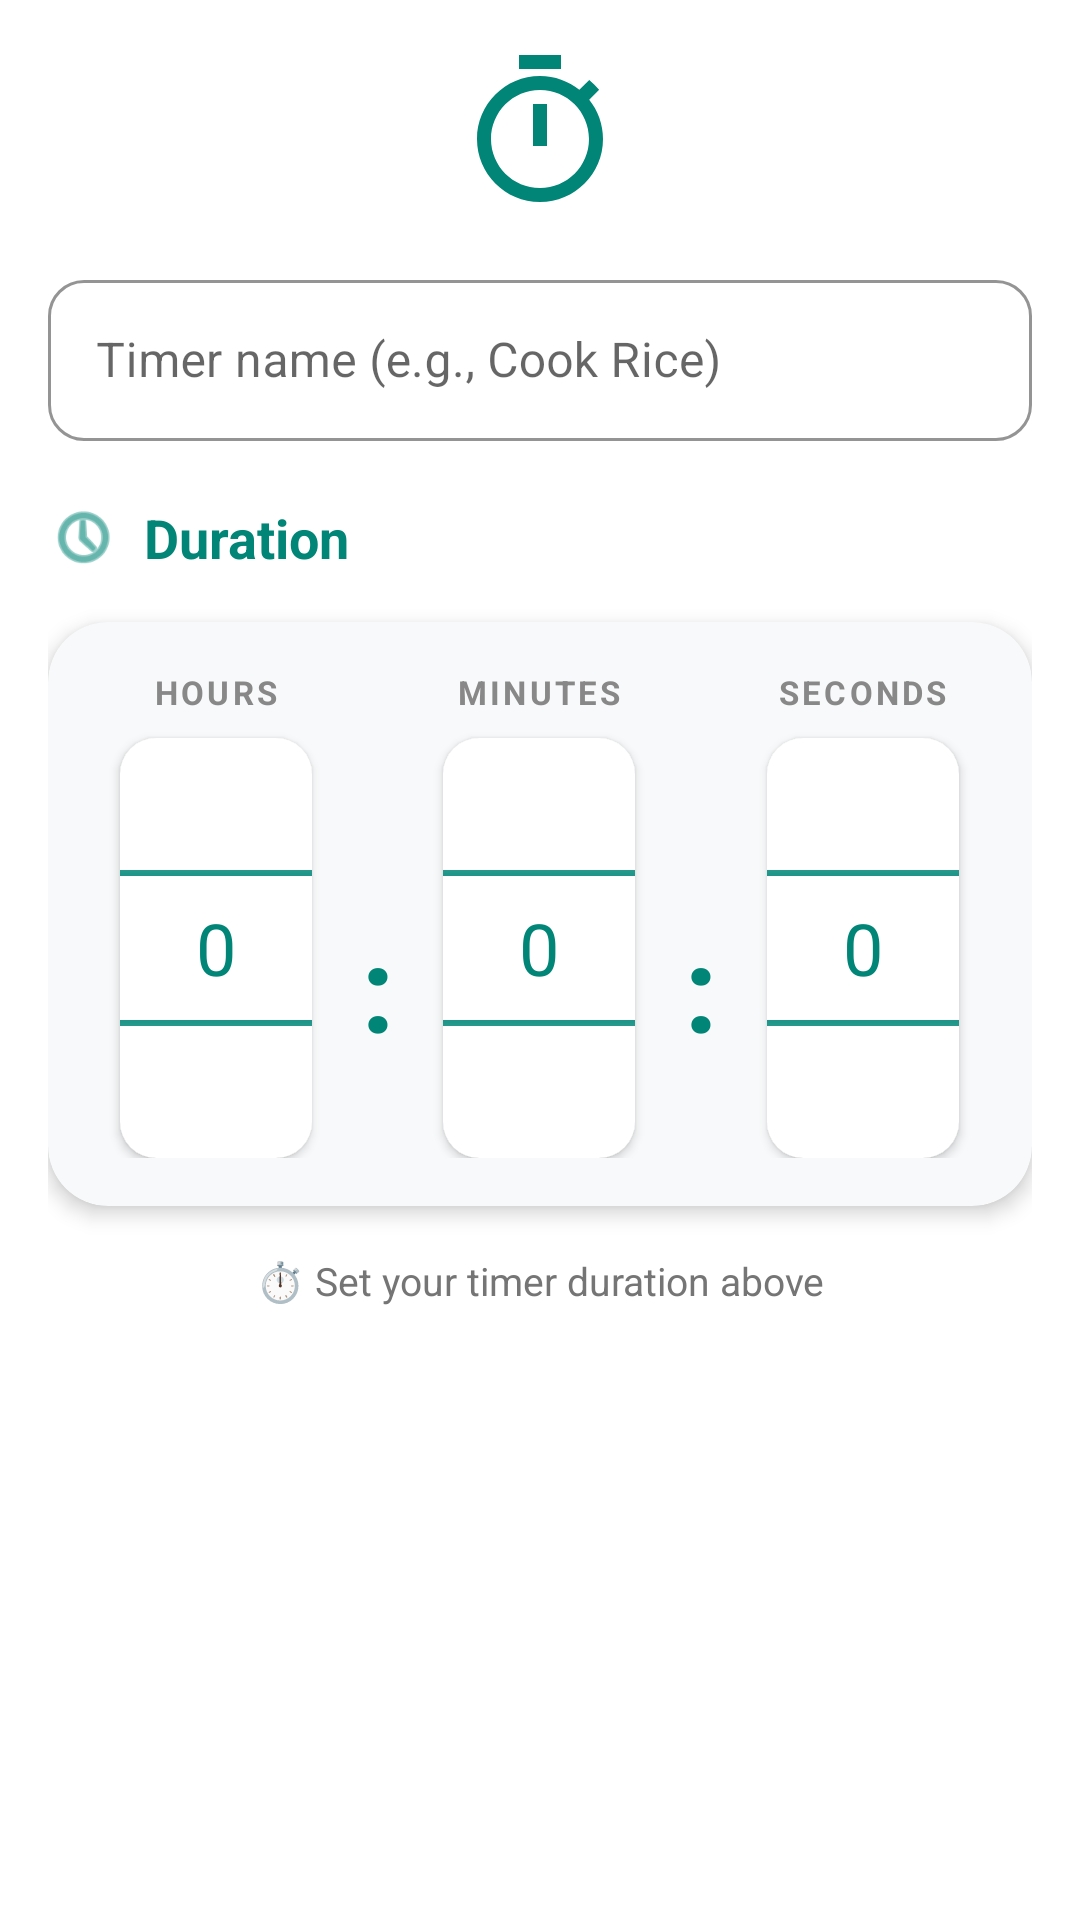

Locate icon controls on the screen. Image size 1080×1920, boxes as (x1, y1, x2, y2).
recent history: (57, 511, 110, 563)
